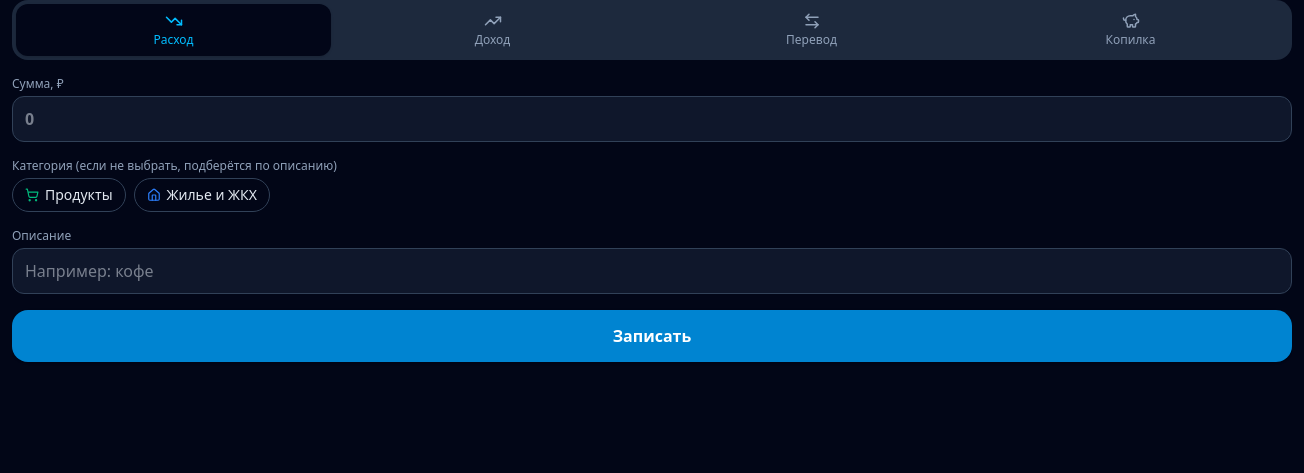
Scenario: EntryForm (Mini App input) › records a transfer to another member (the only other member is preselected)
Check: the element named "Тип записи" is shown, box x1=12 y1=0 x2=1292 y2=60
Click the tab "Перевод" at [812, 30], box x1=654 y1=4 x2=969 y2=56
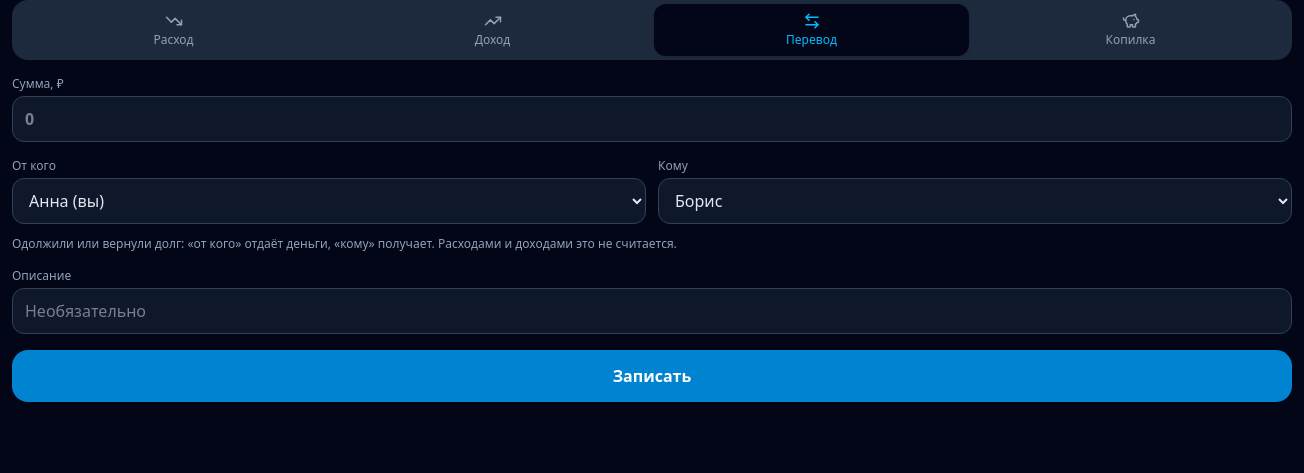
Check: the dropdown labelled "Кому" shows "Борис", box x1=658 y1=178 x2=1292 y2=224
Check: the dropdown labelled "От кого" shows "Анна (вы)", box x1=12 y1=178 x2=646 y2=224
Type "5000" into the field labelled "Сумма, ₽" at [652, 119], box x1=12 y1=96 x2=1292 y2=142
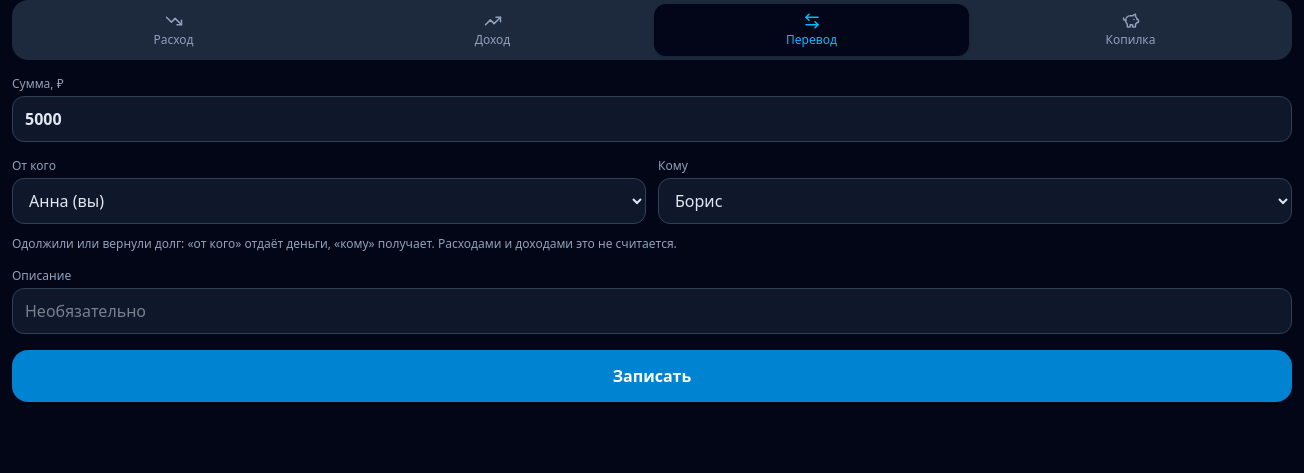
Click the button "Записать" at [652, 376], box x1=12 y1=350 x2=1292 y2=402
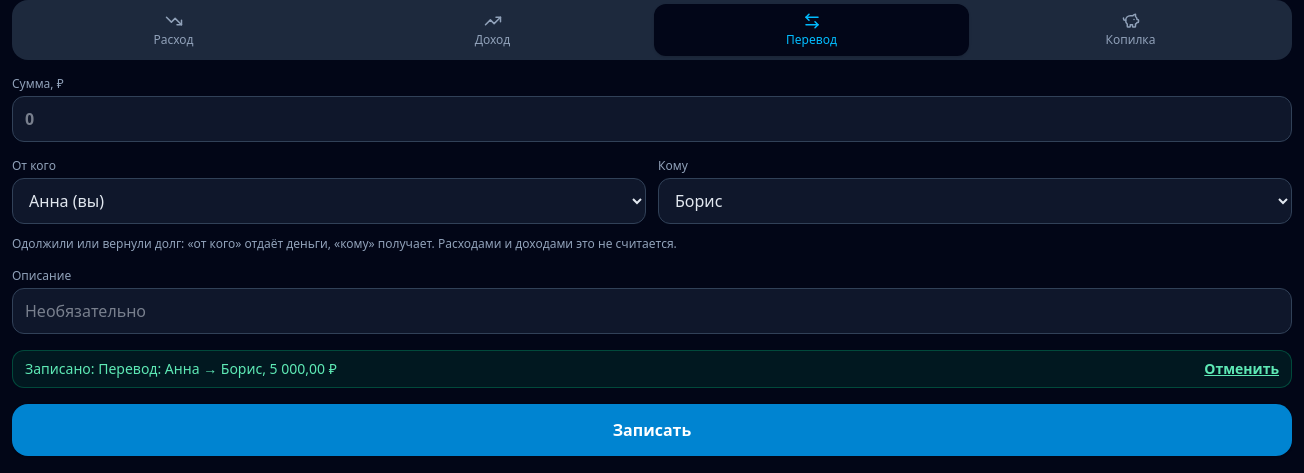
Check: the text "Записано: Перевод: Анна → Борис, 5 000,00 ₽" is shown, box x1=25 y1=359 x2=337 y2=379
